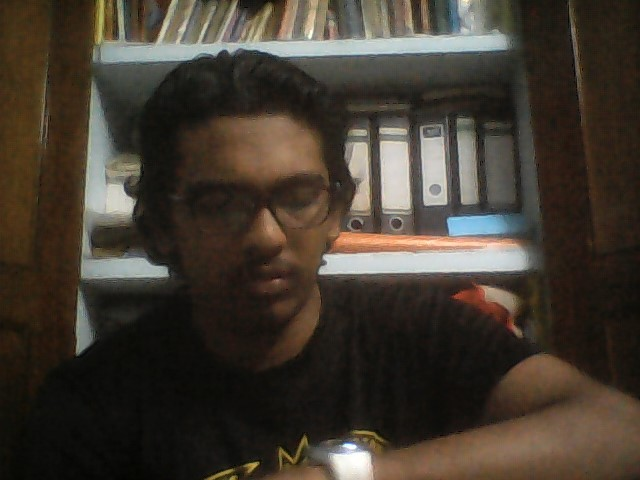person: (34, 46, 542, 480)
smartwatch: (278, 430, 387, 480)
